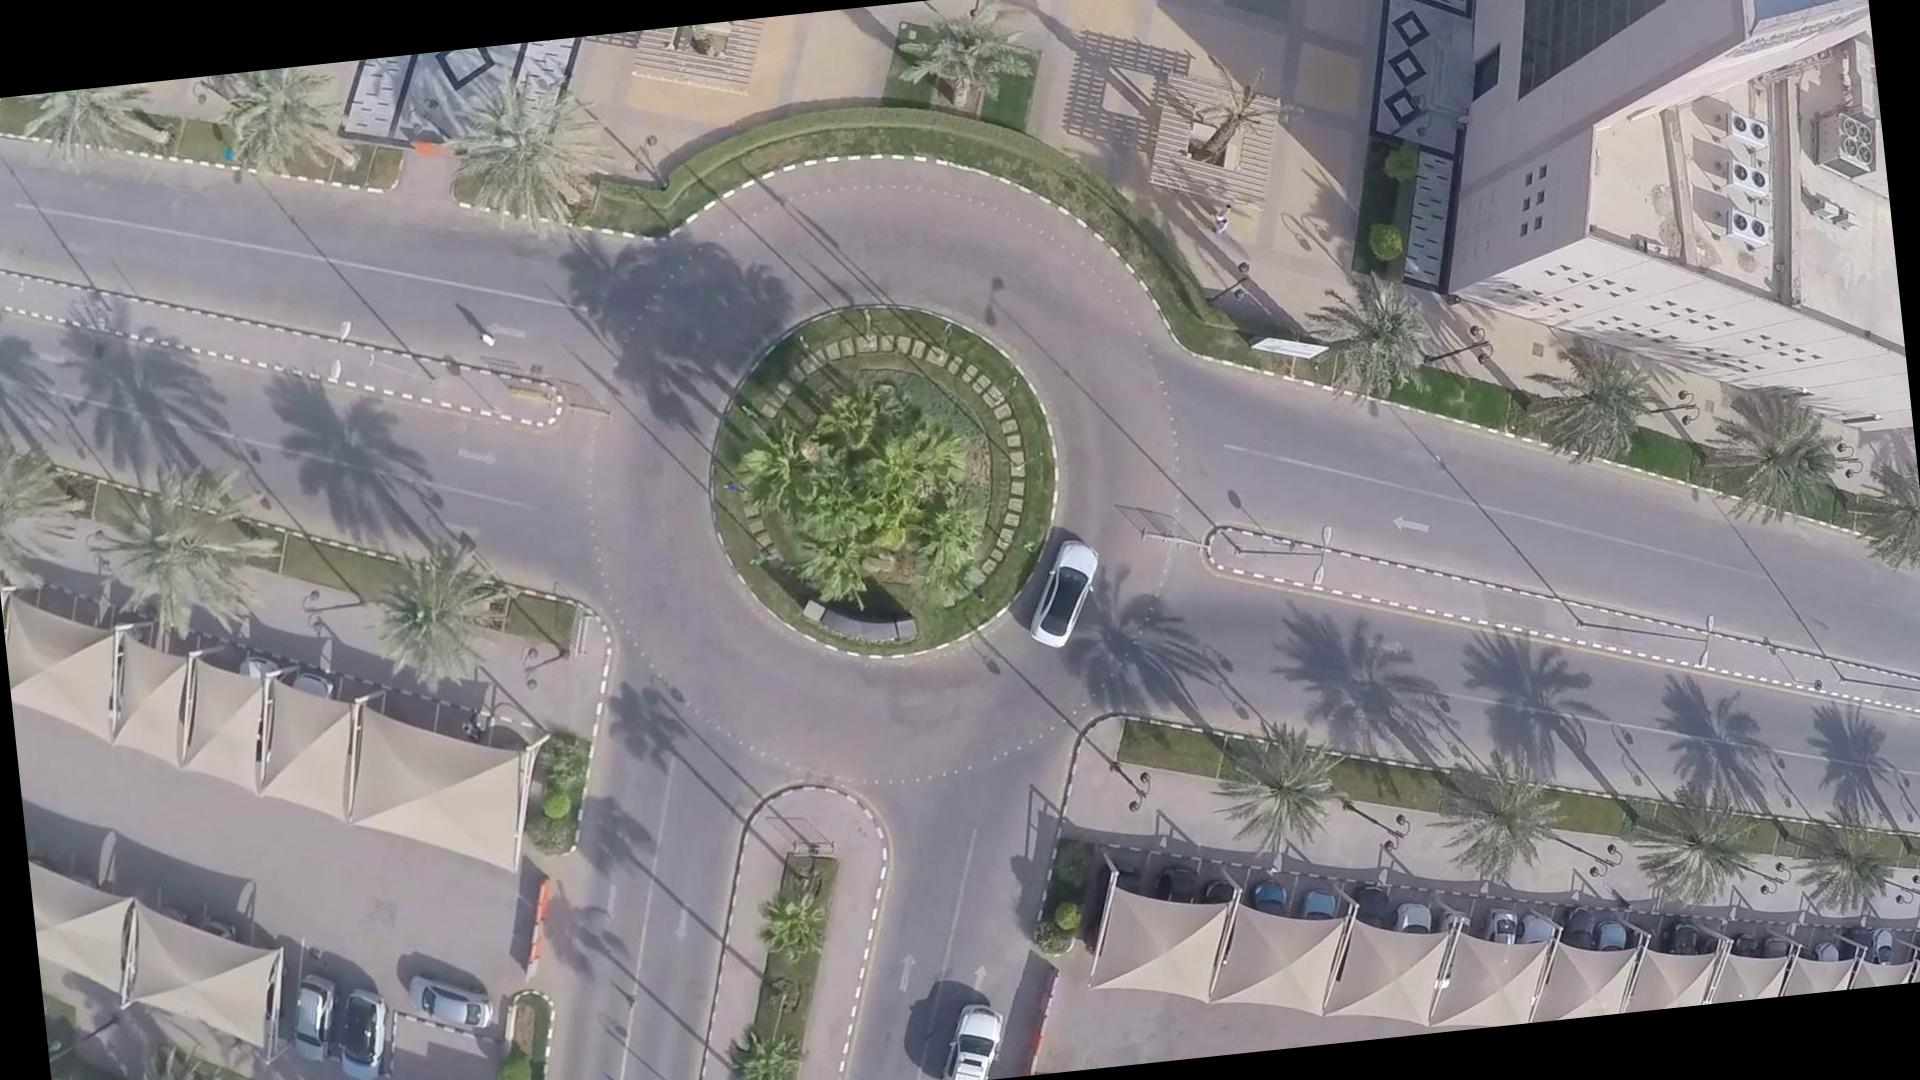vehicle: (1006, 530, 1118, 650)
